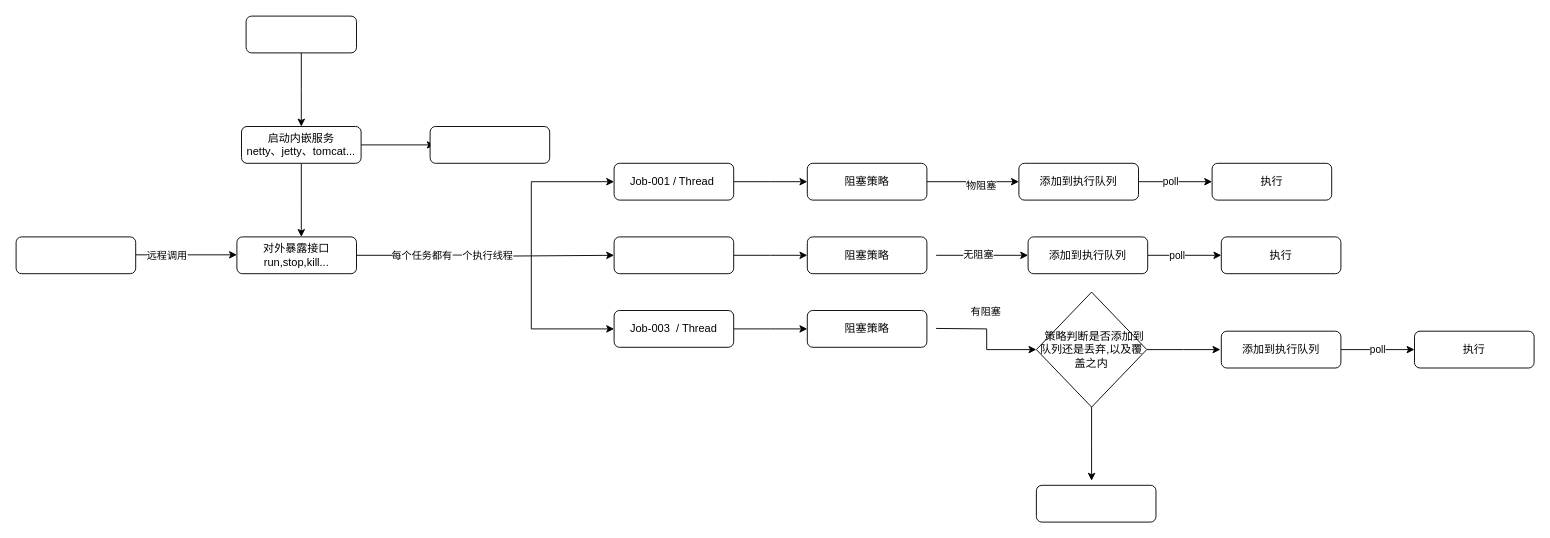
Some shapes in this 1550 by 538 pixel diagram are drawn without their labels. Here are the shapes that lost their labels. From the top down, the centre of each, then its label:
At point (300, 34): "执行器服务启动".
At point (489, 144): "启动服务注册,心跳线程等...".
At point (75, 255): "调度器".
At point (673, 255): "Job-002 / Thread".
At point (1095, 503): "丢弃....".
